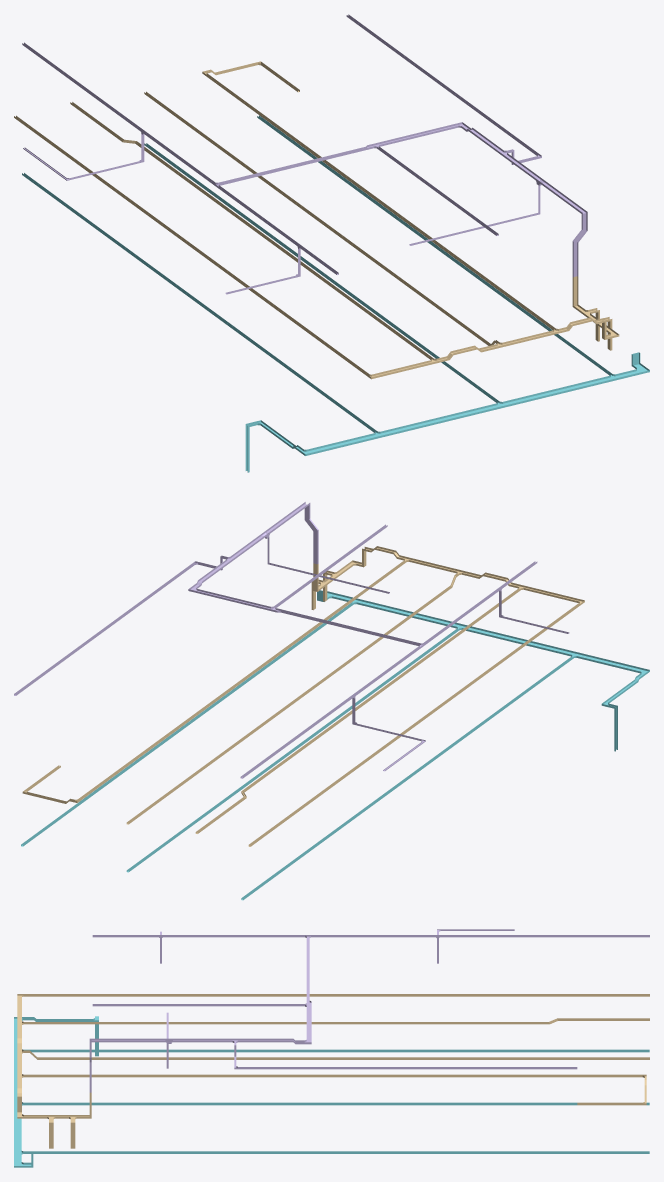
The model's file is 三层桥架.glb.
The picture shows the model from 3 angles, top to bottom: view 1: azimuth 30°, elevation 25°; view 2: azimuth 150°, elevation 25°; view 3: azimuth 270°, elevation 25°; orthographic projection. The views are drawn at different scales.
Visible parts, largest first — view 1: L1-S-37BFC, L2-S-37BFF, L1-S-37C44, L1-S-37C46, L2-S-37C69, L2-S-37EB9, L2-S-37EC6, L3-S-37EF1, L1-S-37C3E, L1-S-37C3F; view 2: L1-S-37BFC, L1-S-37C44, L1-S-37C46, L2-S-37BFF, L2-S-37EB9, L2-S-37C69, L2-S-37EC6, L3-S-37EF1, L1-S-37C3E, L1-S-37C3F; view 3: L1-S-37BFC, L2-S-37C69, L1-S-37C44, L1-S-37C46, L2-S-37BFF, L2-S-37EB9, L2-S-37EC6, L3-S-37EF1, L3-S-37C6F, L3-S-37C20, L3-S-37BE6, L3-S-37C1F.
Boxes of the visible parts, x1,y1,x2,y2 form: L1-S-37BFC: [22, 173, 376, 432]; L2-S-37BFF: [14, 115, 368, 375]; L1-S-37C44: [144, 143, 499, 403]; L1-S-37C46: [257, 115, 611, 375]; L2-S-37C69: [205, 74, 555, 330]; L2-S-37EB9: [144, 91, 490, 345]; L2-S-37EC6: [136, 142, 432, 359]; L3-S-37EF1: [346, 14, 538, 155]; L1-S-37C3E: [384, 404, 497, 435]; L1-S-37C3F: [506, 376, 610, 405]; L1-S-37BFC: [241, 656, 573, 900]; L1-S-37C44: [126, 628, 458, 872]; L1-S-37C46: [21, 603, 353, 846]; L2-S-37BFF: [248, 603, 580, 846]; L2-S-37EB9: [126, 585, 452, 824]; L2-S-37C69: [78, 560, 405, 800]; L2-S-37EC6: [242, 588, 520, 792]; L3-S-37EF1: [14, 564, 193, 695]; L1-S-37C3E: [466, 626, 571, 655]; L1-S-37C3F: [360, 600, 457, 627]; L1-S-37BFC: [25, 1049, 649, 1052]; L2-S-37C69: [25, 1074, 640, 1077]; L1-S-37C44: [24, 1102, 649, 1105]; L1-S-37C46: [24, 1151, 649, 1153]; L2-S-37BFF: [24, 994, 649, 996]; L2-S-37EB9: [37, 1057, 649, 1059]; L2-S-37EC6: [25, 1022, 547, 1024]; L3-S-37EF1: [240, 1067, 577, 1069]; L3-S-37C6F: [92, 1004, 303, 1006]; L3-S-37C20: [441, 935, 649, 937]; L3-S-37BE6: [164, 935, 303, 937]; L3-S-37C1F: [312, 935, 433, 937].
Size of the model in its own units: 39.64 by 18.4 by 66.13.
